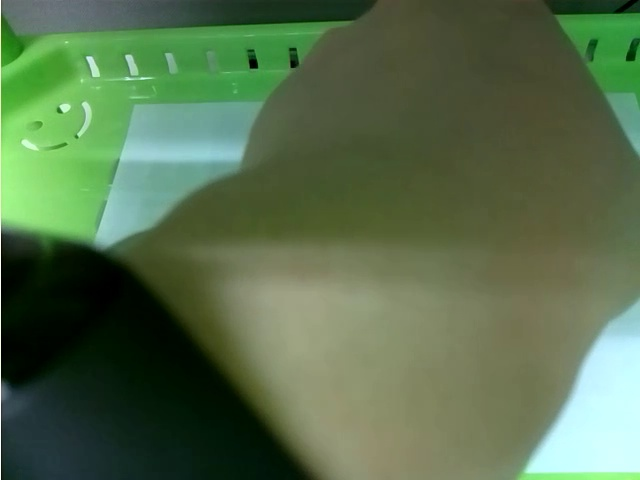hand: (142, 2, 640, 471)
